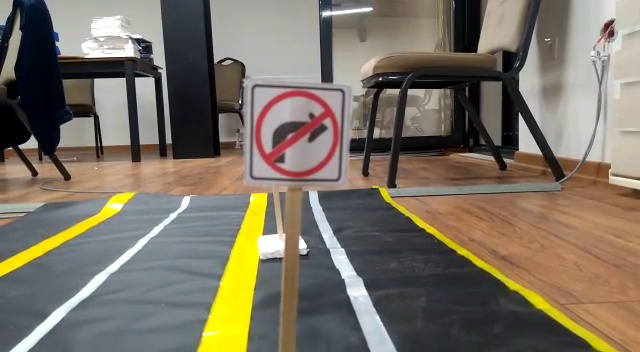saga_donulmez: (250, 80, 343, 182)
